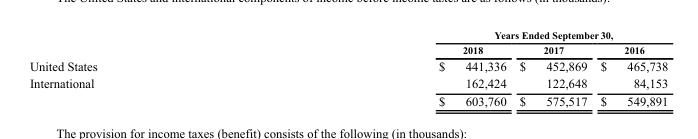table: (28, 28, 667, 107)
table column: (267, 28, 512, 107), (28, 28, 267, 107), (512, 28, 593, 107), (593, 28, 667, 107)
table column header: (28, 28, 667, 56)
table row: (28, 56, 667, 74), (28, 74, 667, 92), (28, 41, 667, 56), (28, 92, 667, 107), (28, 28, 667, 41)
table spanning cell: (267, 28, 667, 41)
